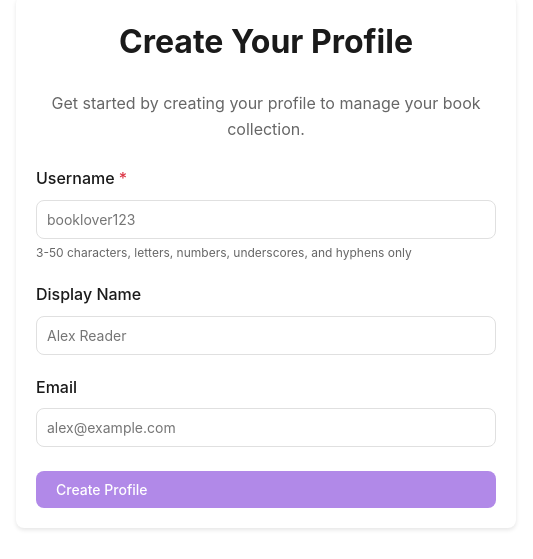
Test case: ProfileSetup › should validate email format
In the field labelled "Username *": (266, 220) [36,200,496,239], type "testuser"
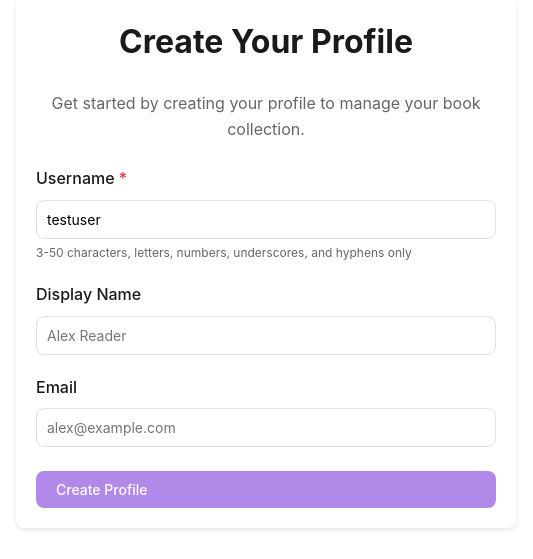
In the field labelled "Email": (266, 428) [36,408,496,447], type "invalid-email"
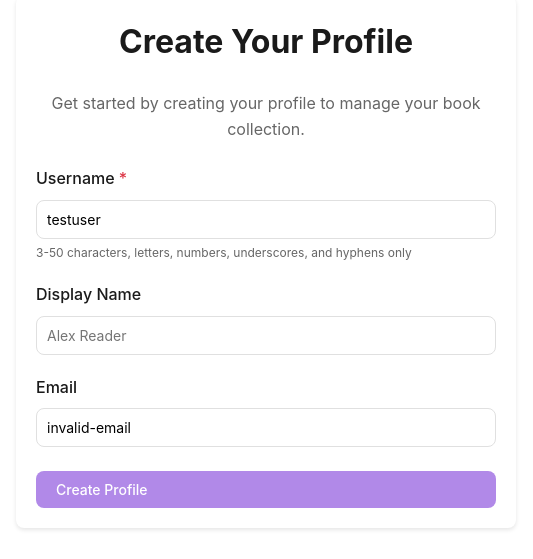
Submit the form named "Create Profile", box [36,166,496,508]
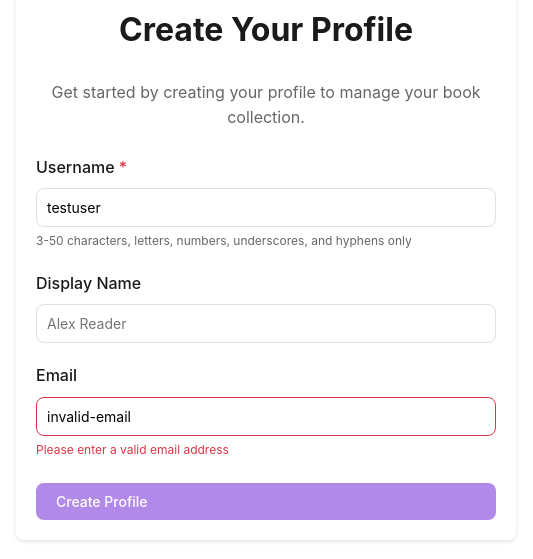
Now the text "Please enter a valid email address" is shown, box [36,442,229,457]
